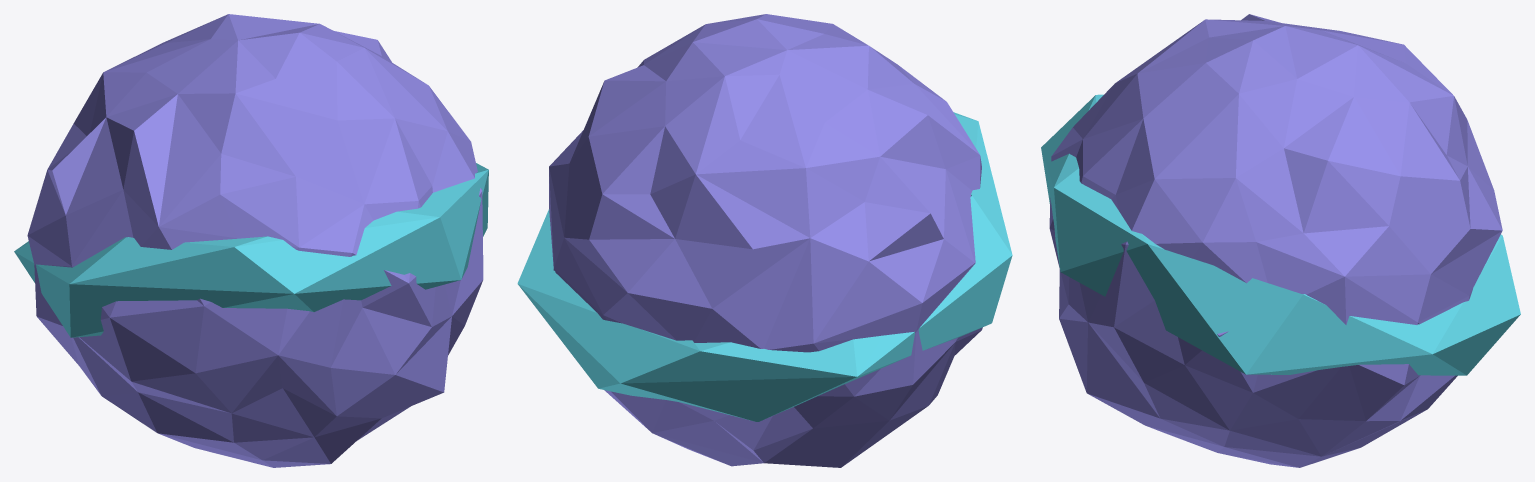
File: icy_planet3.fbx
3 views of the same model, side by side, from view 1: azimuth 30°, elevation 25°; view 2: azimuth 150°, elevation 25°; view 3: azimuth 270°, elevation 25° (orthographic).
Visible parts, largest first — view 1: icy_planet3; view 2: icy_planet3; view 3: icy_planet3.
Part boxes in pixels (bbox=[...]): icy_planet3: bbox=[14, 14, 488, 467]; icy_planet3: bbox=[517, 14, 1012, 467]; icy_planet3: bbox=[1041, 14, 1520, 467].
Bounding box in the file's own units: 216 × 202 × 206.
